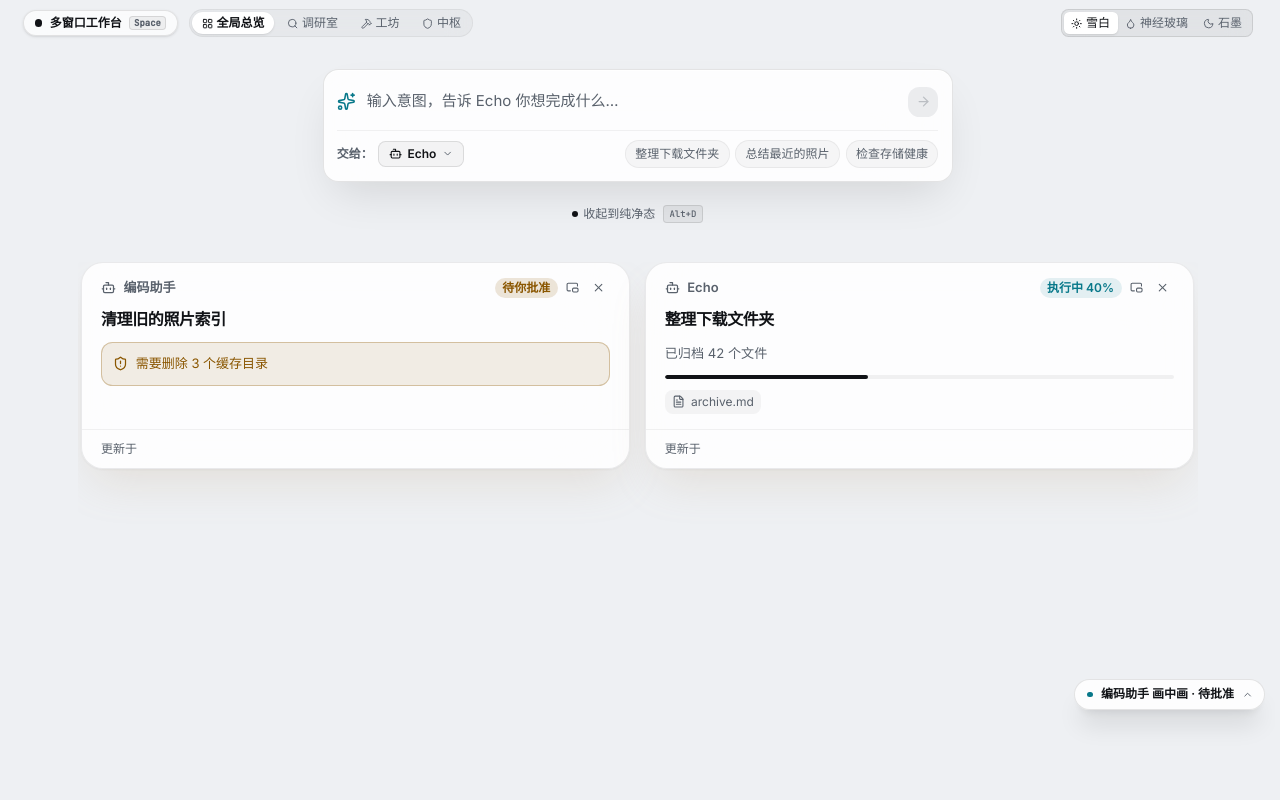
Test: IntentDesktopSurface › pins a chosen task into picture-in-picture
Click the button named "钉在画中画" next to "40%" at (1137, 288), box [1125, 276, 1148, 299]
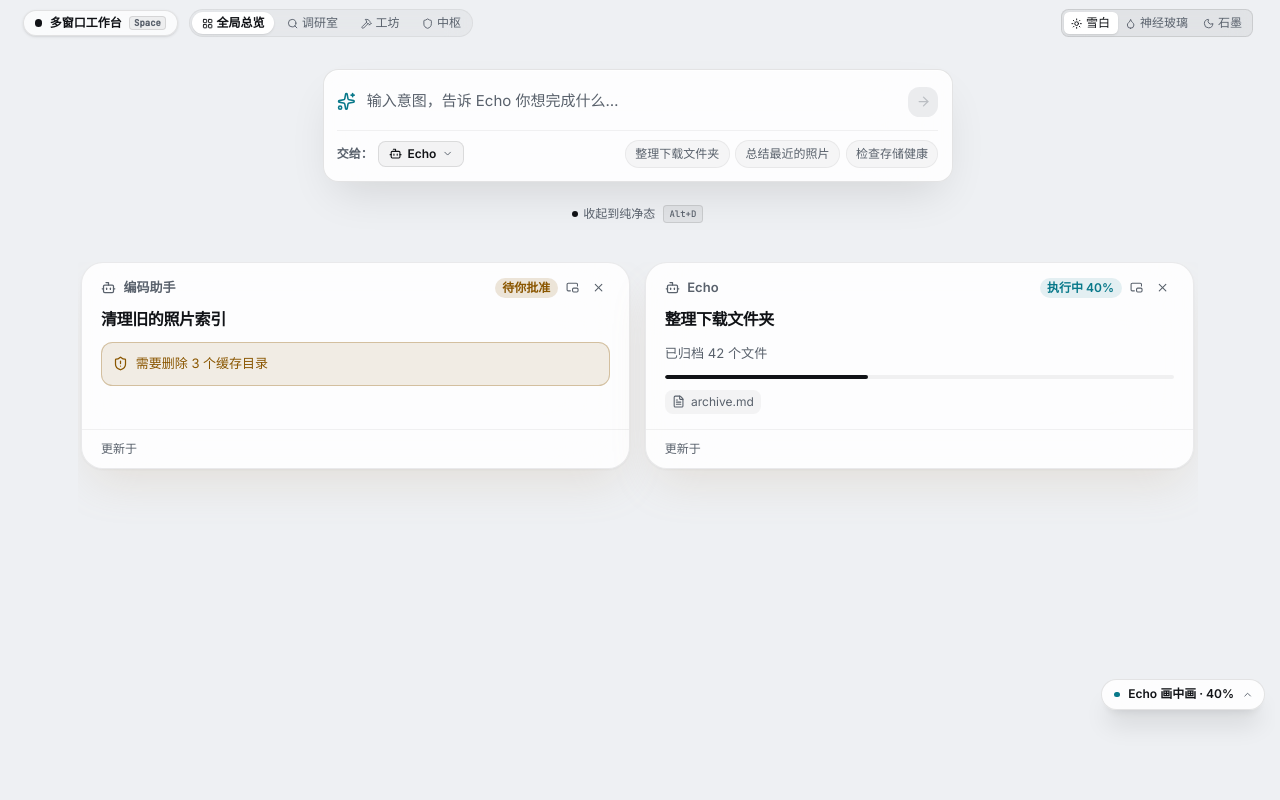
expect the text "Echo 画中画 · 40%" is shown: met, box [1128, 685, 1234, 703]
